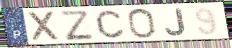9: (193, 6, 219, 36)
C: (94, 9, 126, 39)
J: (164, 7, 188, 37)
O: (126, 7, 158, 39)
X: (26, 10, 62, 43)
Z: (58, 10, 96, 42)
